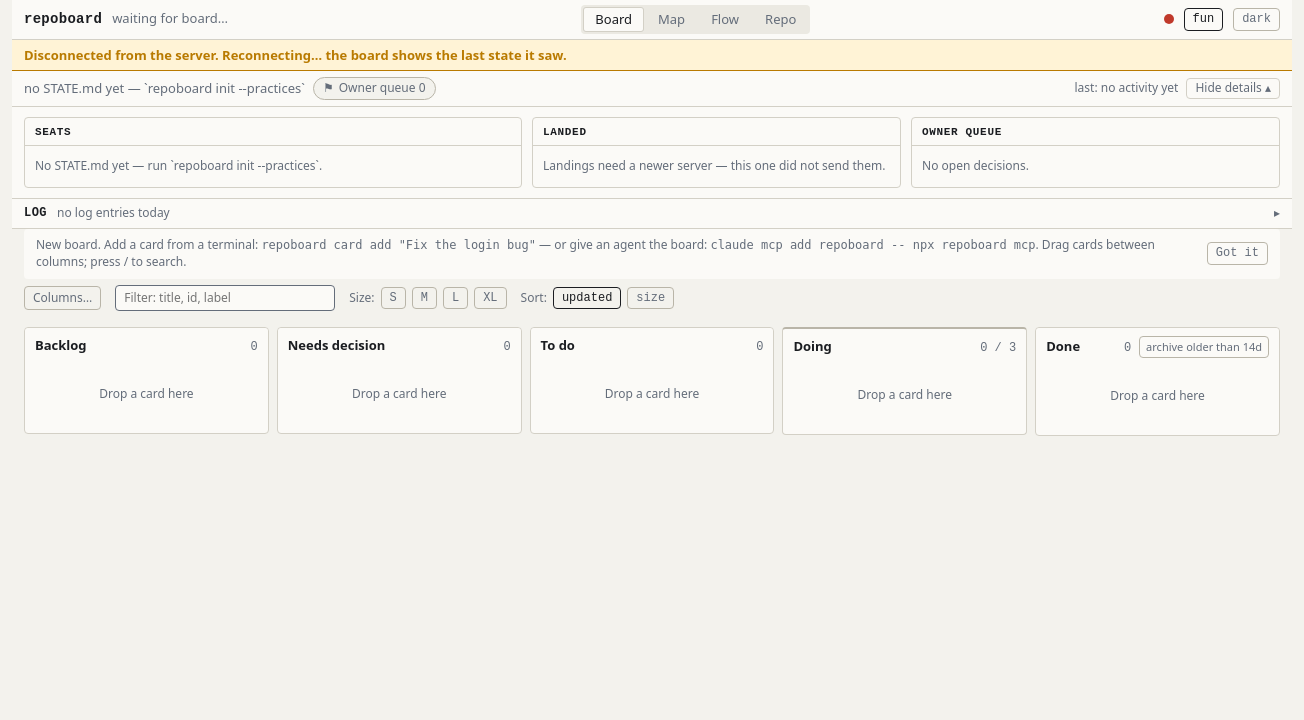
Test: Dashboard view (RCB-112 B) › 1. the Repo tab renders and clicking it switches to the dashboard view
Click the button "Repo": (781, 20) [753,7,808,32]
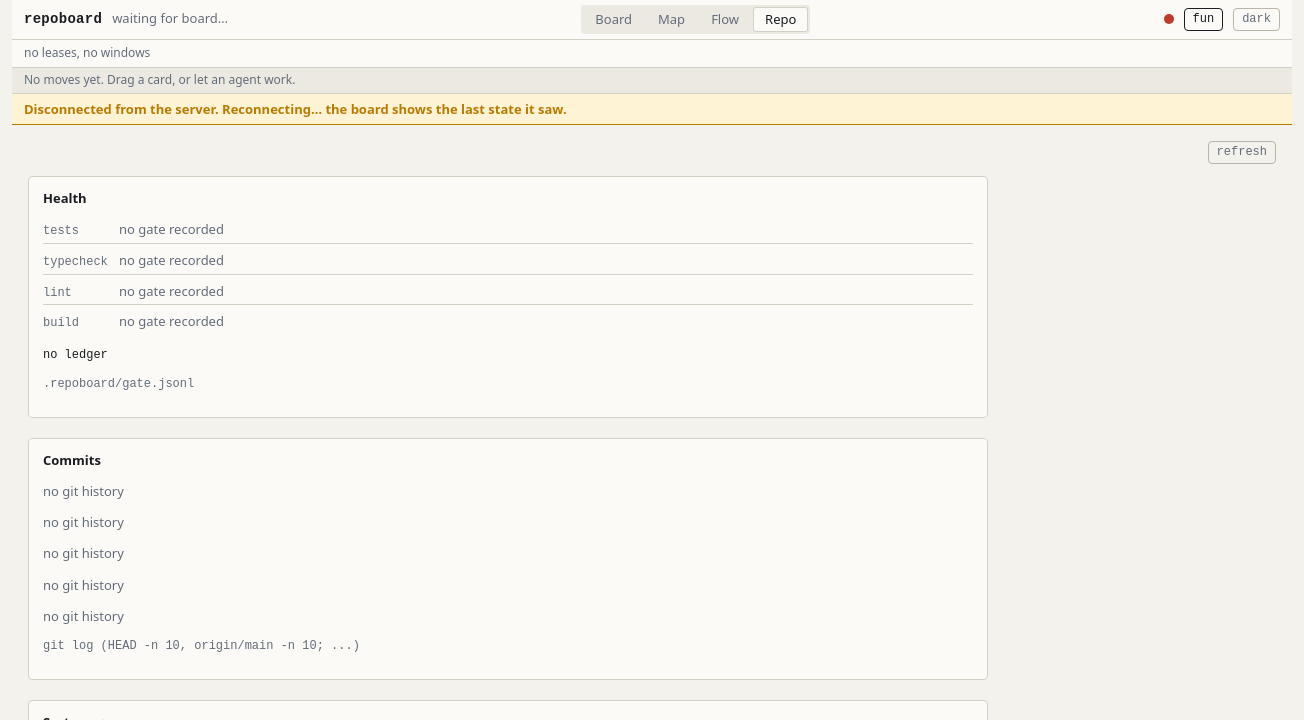
Now the element with test id "dashboard" is shown
